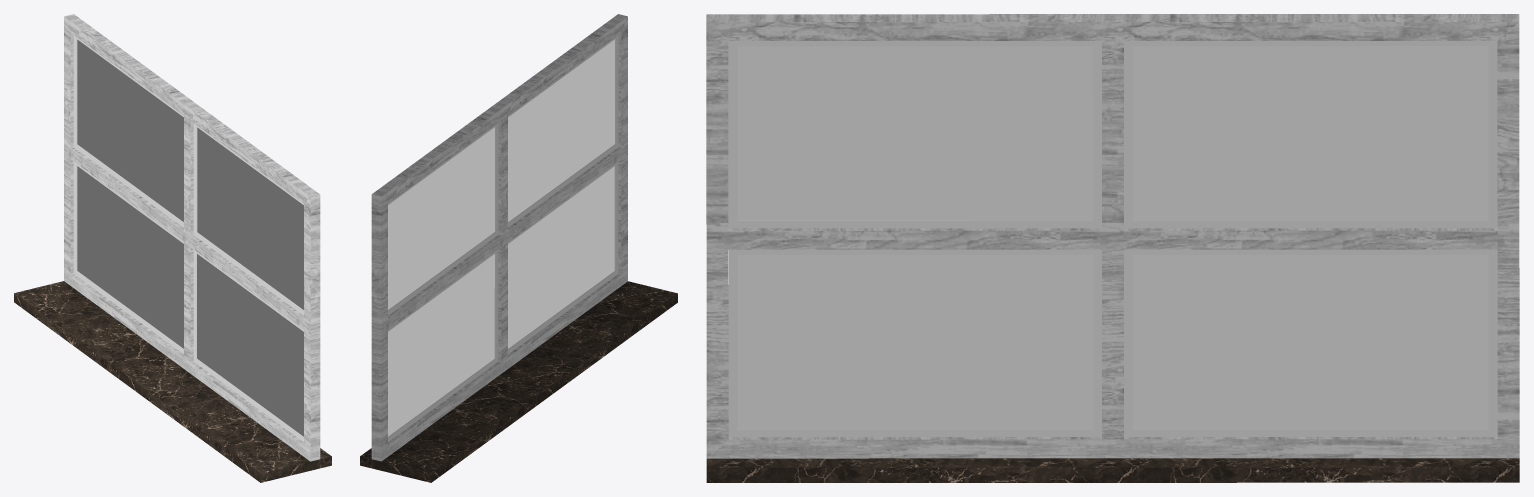
The model's file is Window_ecd44f98.obj.
The picture shows the model from 3 angles, left to right: view 1: azimuth 30°, elevation 25°; view 2: azimuth 150°, elevation 25°; view 3: azimuth 270°, elevation 25°; orthographic projection. The views are drawn at different scales.
Parts seen in each view (by area): view 1: WindowPanels_042e660f, WindowFrame_5a934301; view 2: WindowPanels_042e660f, WindowFrame_5a934301; view 3: WindowPanels_042e660f, WindowFrame_5a934301.
Part boxes in pixels (x1,y1,x2,y2): WindowPanels_042e660f: (77, 39, 303, 436); WindowFrame_5a934301: (14, 14, 331, 482); WindowPanels_042e660f: (388, 39, 614, 436); WindowFrame_5a934301: (360, 14, 677, 482); WindowPanels_042e660f: (737, 46, 1488, 428); WindowFrame_5a934301: (706, 14, 1519, 482).
Size of the model in its own units: 0.361 by 1.33 by 2.16.
